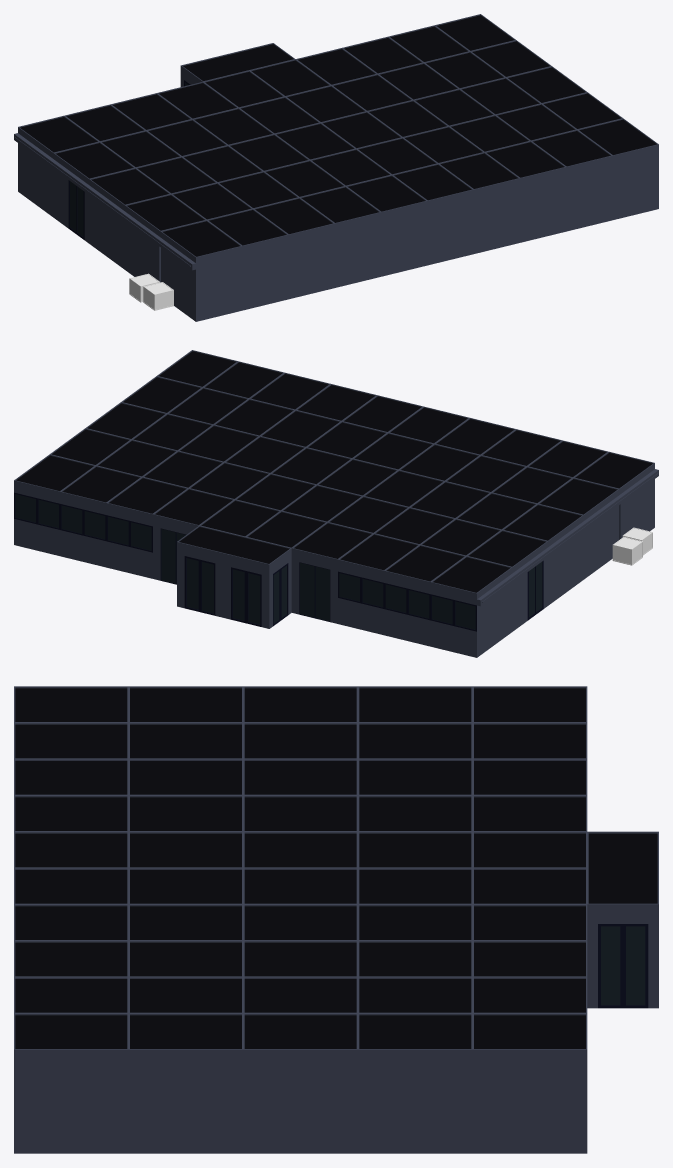
The picture shows the model from 3 angles, top to bottom: view 1: azimuth 30°, elevation 25°; view 2: azimuth 150°, elevation 25°; view 3: azimuth 270°, elevation 25°; orthographic projection. The views are drawn at different scales.
Visible parts, largest first — view 1: Box001, Box003, Box002; view 2: Box001, Box002; view 3: Box001.
Part boxes in pixels (left/top/right/bottom): Box001: left=14, top=14, right=658, bottom=321; Box003: left=143, top=282, right=173, bottom=310; Box002: left=129, top=273, right=159, bottom=302; Box001: left=14, top=350, right=658, bottom=657; Box002: left=612, top=537, right=642, bottom=565; Box001: left=14, top=686, right=658, bottom=1153.
Size of the model in its own units: 247 by 31.5 by 177.
